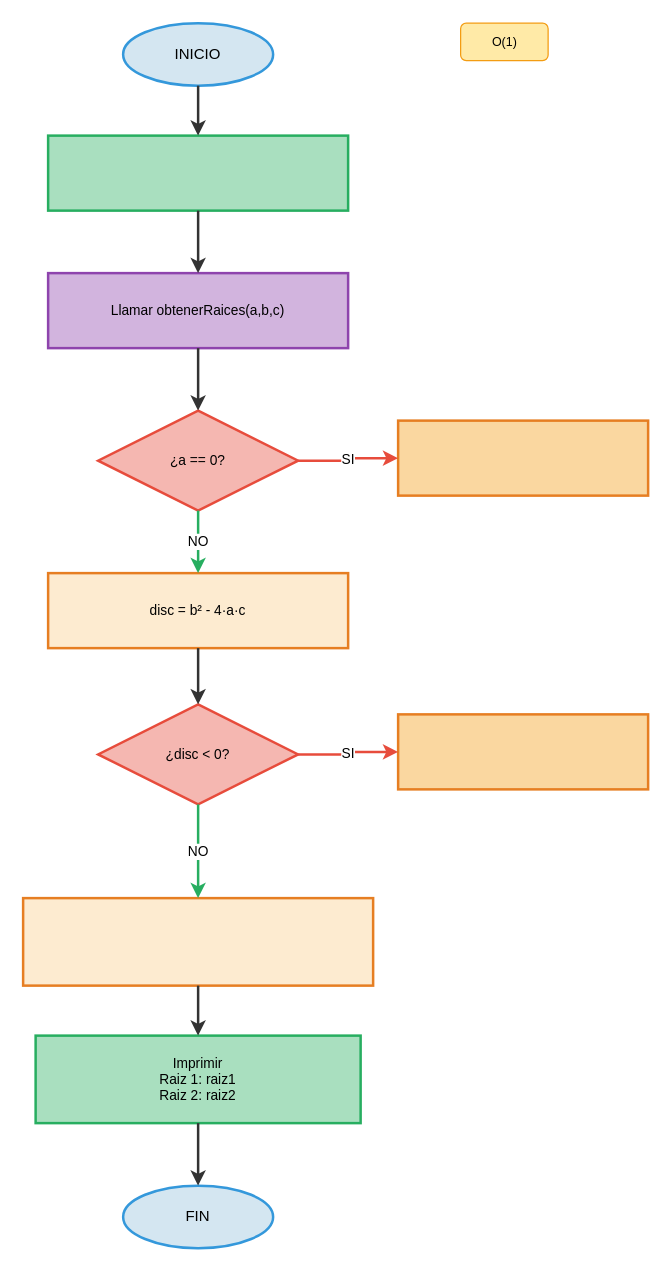
The diagram is 670 pixels wide and 1270 high, and some of its shapes have lost their labels. The box of each missing label's shape, as (x1, y1, x2, y2) in pixels:
Imprimir 'No es una cuadratica': (396, 419, 649, 496)
Imprimir 'No tiene raices reales': (396, 712, 649, 790)
Leer a, b, c: (46, 134, 349, 211)
raiz1 = (-b + √disc) / (2a) raiz2 = (-b - √disc) / (2a): (21, 896, 374, 986)
